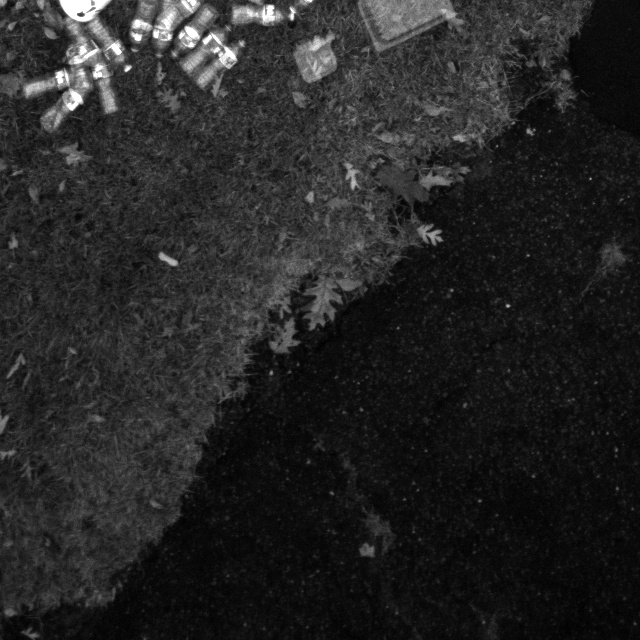bottle: (35, 74, 94, 136), (176, 20, 236, 77), (189, 36, 250, 91), (86, 15, 133, 76), (169, 3, 219, 59), (18, 64, 85, 101), (61, 15, 104, 72), (86, 47, 121, 114), (65, 38, 97, 98), (151, 0, 181, 58), (127, 0, 157, 54)
container: (327, 0, 459, 51), (293, 35, 339, 83)
